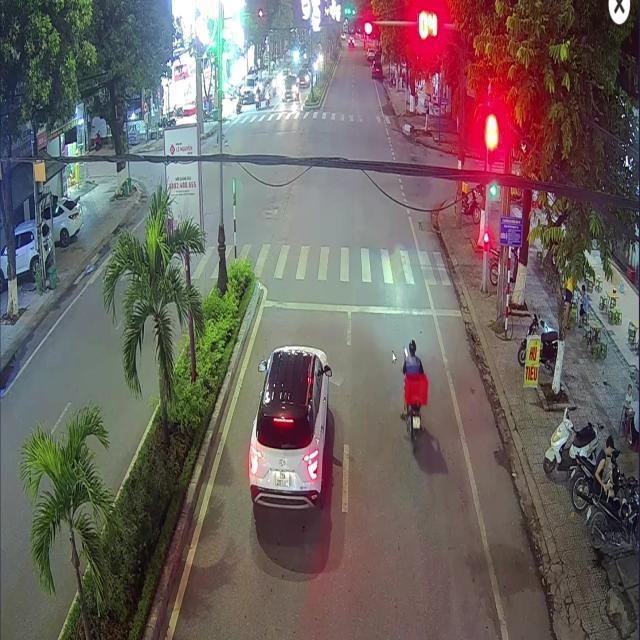car: (247, 345, 331, 508), (371, 61, 382, 77)
motobike: (400, 372, 427, 440)
red_light: (347, 19, 372, 34), (487, 130, 493, 164), (483, 231, 487, 250)
stop_line: (263, 300, 461, 315)
